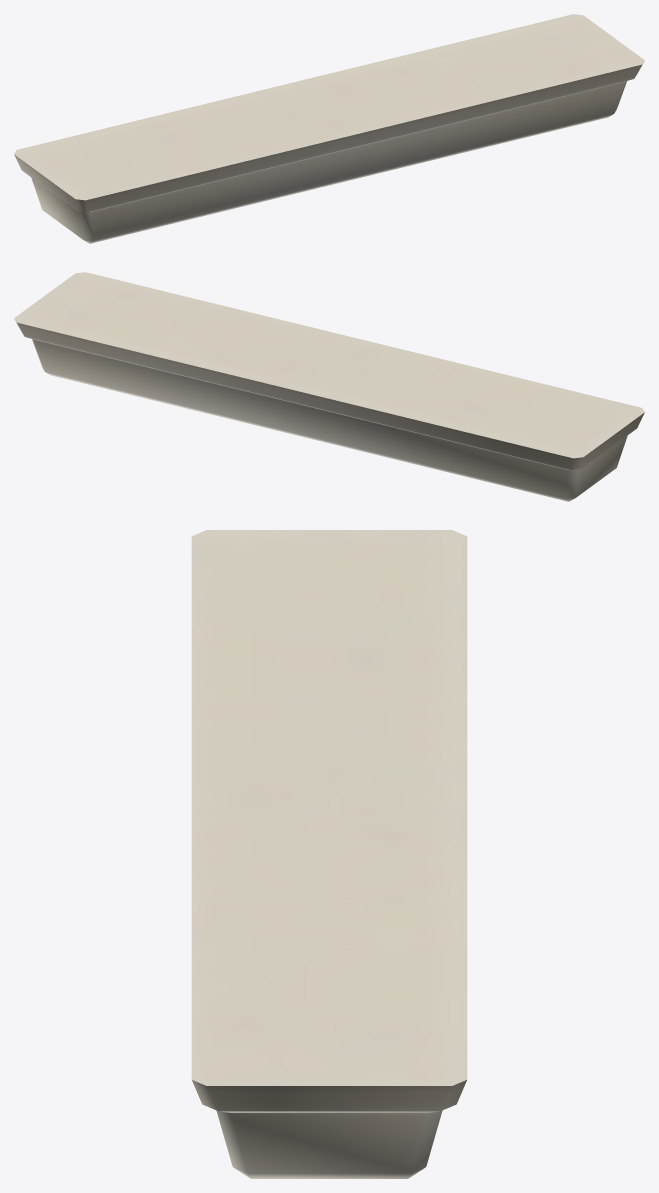
The model's file is set_outdoor_lamp.fbx.
3 views of the same model, one above another, from view 1: azimuth 30°, elevation 25°; view 2: azimuth 150°, elevation 25°; view 3: azimuth 270°, elevation 25° (orthographic). The views are drawn at different scales.
Visible parts, largest first — view 1: set_outdoor_lamp; view 2: set_outdoor_lamp; view 3: set_outdoor_lamp.
Boxes of the visible parts, bbox=[...] form: set_outdoor_lamp: bbox=[14, 14, 644, 243]; set_outdoor_lamp: bbox=[14, 272, 644, 501]; set_outdoor_lamp: bbox=[191, 530, 467, 1178].
Bounding box in the file's own units: 133 × 13.16 × 27.88.
